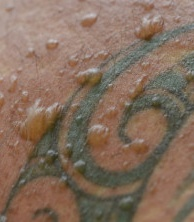SJS-TEN: (0, 8, 194, 218)
